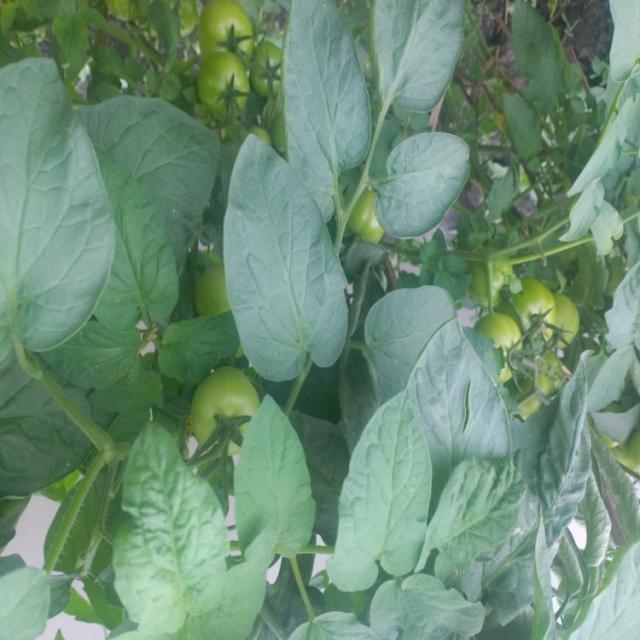tomato: (465, 293, 541, 397), (187, 365, 265, 461), (192, 55, 267, 133), (199, 1, 273, 62), (247, 38, 300, 119), (501, 273, 563, 342), (344, 188, 386, 255), (540, 284, 586, 345), (474, 249, 525, 304)
